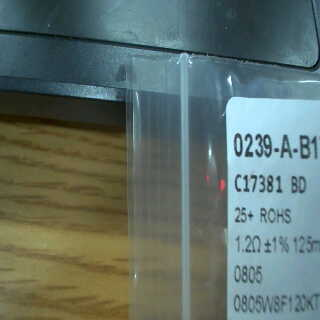1.2R: (233, 230, 264, 289)
